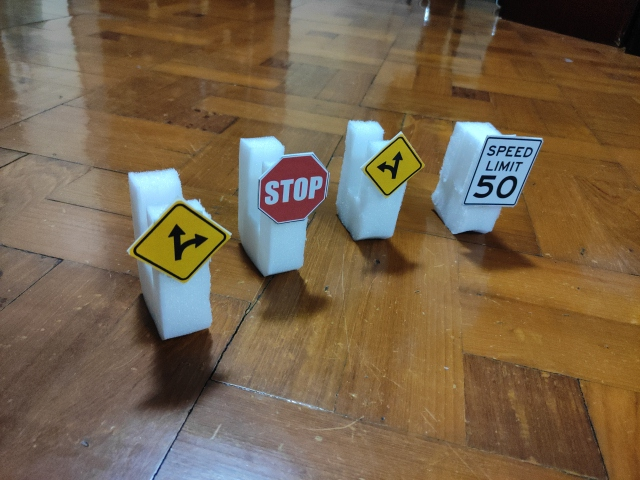Speed Limit 50: (465, 136, 543, 206)
Stop Sign: (257, 153, 329, 225)
Straight Or Left Sign: (363, 135, 423, 197)
Straight Or Right Sign: (129, 201, 230, 281)
